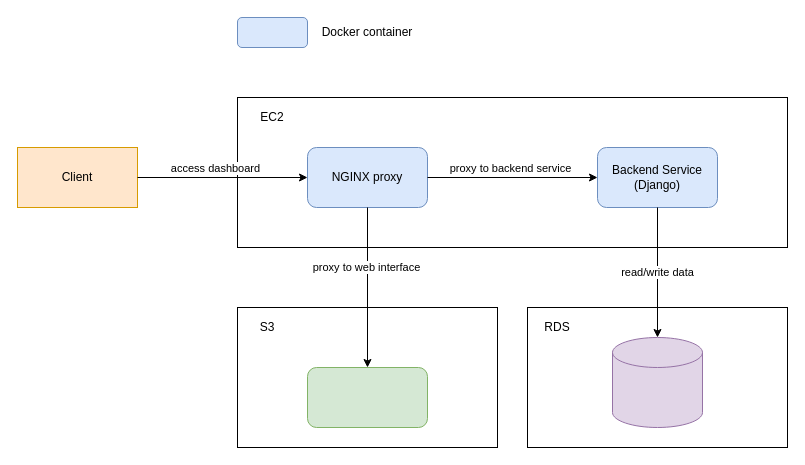
Image size: 805x465. Some labels were removed from this diagram. The centre of each missing label's shape, as x and y in pixels:
"PostgreSQL DB" belongs at pixel 657 382.
"Web Interface (ReactJS)" belongs at pixel 367 397.
